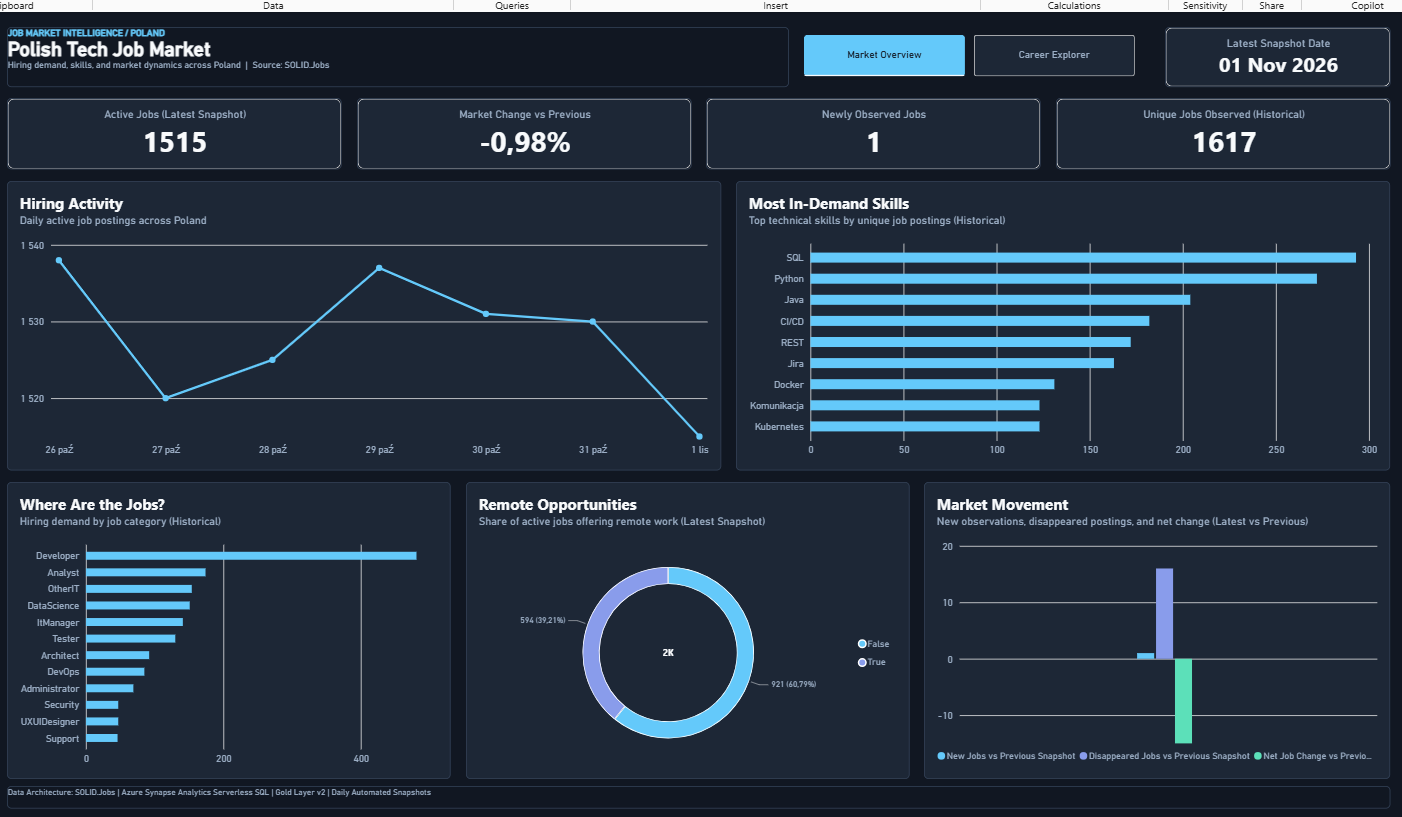

This screenshot's page, from the dashboard's own definition file:
{"tool":"powerbi","page":{"name":"Market Overview","canvas":[1920,1080],"ordinal":0},"visuals":[{"type":"textbox","box":[40,20,1040,80],"z":100},{"type":"cardVisual","fields":{"Data":["_Measures.Report Data On"]},"box":[1580,20,300,80],"z":200},{"type":"cardVisual","fields":{"Data":["_Measures.Active Jobs"]},"box":[40,115,445,95],"z":300},{"type":"cardVisual","fields":{"Data":["_Measures.Jobs Change % vs Previous Snapshot"]},"box":[505,115,445,95],"z":400},{"type":"cardVisual","fields":{"Data":["_Measures.New Jobs vs Previous Snapshot"]},"box":[970,115,445,95],"z":500},{"type":"cardVisual","fields":{"Data":["_Measures.Unique Jobs"]},"box":[1435,115,445,95],"z":600},{"type":"lineChart","title":"Hiring Activity","fields":{"Category":["vw_job_snapshots_v2.snapshot_date.Variation.Date Hierarchy.Year","vw_job_snapshots_v2.snapshot_date.Variation.Date Hierarchy.Quarter","vw_job_snapshots_v2.snapshot_date.Variation.Date Hierarchy.Month","vw_job_snapshots_v2.snapshot_date.Variation.Date Hierarchy.Day"],"Y":["_Measures.Daily Active Jobs"]},"box":[40,225,950,385],"z":700},{"type":"clusteredBarChart","title":"Most In-Demand Skills","fields":{"Category":["vw_job_skills_v2.skill_name"],"Y":["_Measures.Job Postings with Skill"]},"box":[1010,225,870,385],"z":800},{"type":"clusteredBarChart","title":"Where Are the Jobs?","fields":{"Category":["vw_job_snapshots_v2.category"],"Y":["_Measures.Unique Jobs"]},"box":[40,625,590,395],"z":900},{"type":"donutChart","title":"Remote Opportunities","fields":{"Category":["vw_job_snapshots_v2.is_remote"],"Y":["_Measures.Active Jobs By Remote Status"]},"box":[650,625,590,395],"z":1000},{"type":"clusteredColumnChart","title":"Market Movement","fields":{"Y":["_Measures.New Jobs vs Previous Snapshot","_Measures.Disappeared Jobs vs Previous Snapshot","_Measures.Net Job Change vs Previous Snapshot"]},"box":[1260,625,620,395],"z":1100},{"type":"textbox","box":[40,1030,1840,30],"z":1200},{"type":"pageNavigator","box":[1100,30,440,55],"z":1300}]}

Visuals, with their boxes on the page's 1920x1080 design canvas (x1, y1, x2, y2). These are canvas units, not pixel positions in the 1402x817 screenshot, which may show the page scaled, cropped or inside an application window:
textbox: [40, 20, 1080, 100]
cardVisual - _Measures.Report Data On: [1580, 20, 1880, 100]
cardVisual - _Measures.Active Jobs: [40, 115, 485, 210]
cardVisual - _Measures.Jobs Change % vs Previous Snapshot: [505, 115, 950, 210]
cardVisual - _Measures.New Jobs vs Previous Snapshot: [970, 115, 1415, 210]
cardVisual - _Measures.Unique Jobs: [1435, 115, 1880, 210]
"Hiring Activity" lineChart: [40, 225, 990, 610]
"Most In-Demand Skills" clusteredBarChart: [1010, 225, 1880, 610]
"Where Are the Jobs?" clusteredBarChart: [40, 625, 630, 1020]
"Remote Opportunities" donutChart: [650, 625, 1240, 1020]
"Market Movement" clusteredColumnChart: [1260, 625, 1880, 1020]
textbox: [40, 1030, 1880, 1060]
pageNavigator: [1100, 30, 1540, 85]
